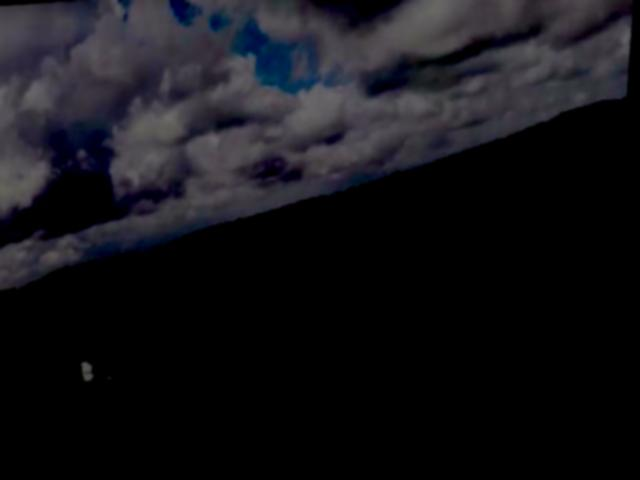iha: (78, 245, 238, 475)
